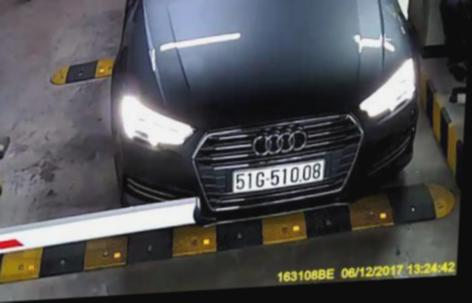License_Plate: (233, 155, 326, 195)
